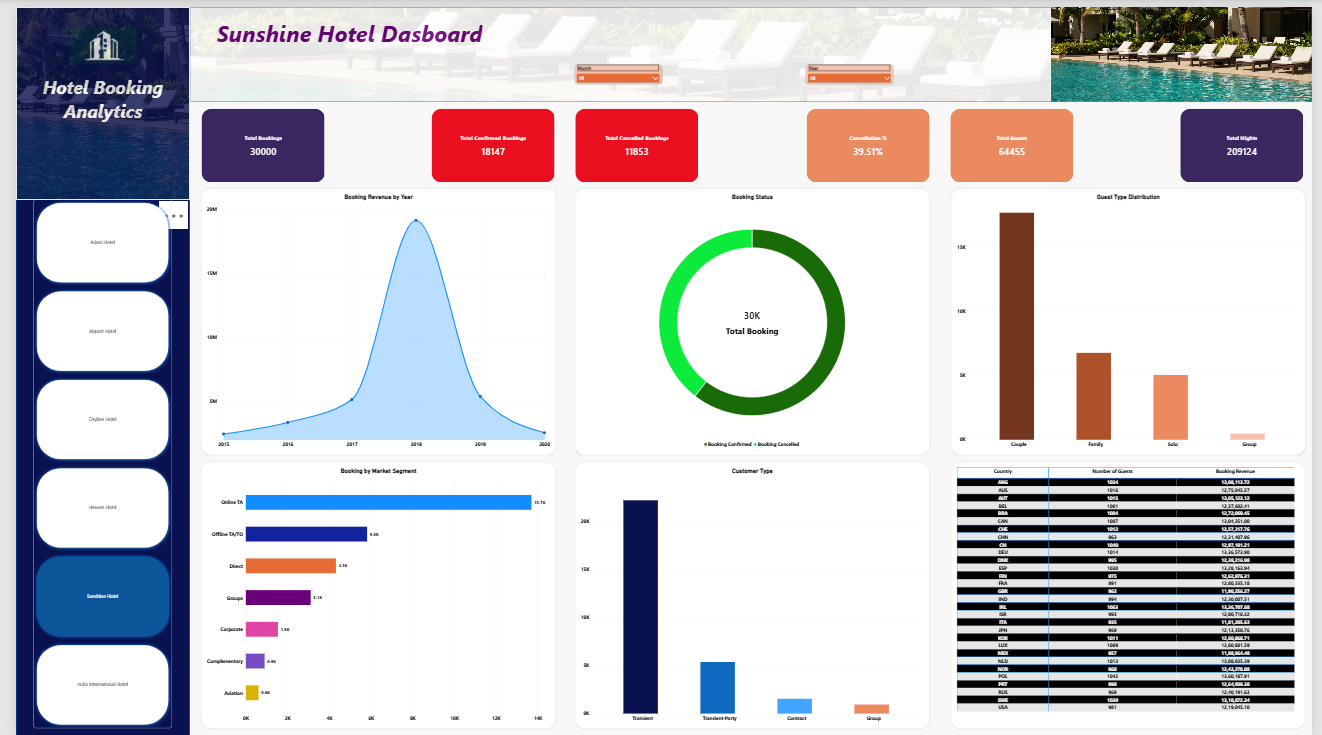

This screenshot's page, from the dashboard's own definition file:
{"tool":"powerbi","page":{"name":"Sunshine Hotel","canvas":[3840,2160],"ordinal":4},"visuals":[{"type":"shape","box":[0,0,515,2160],"z":0},{"type":"image","box":[158,62,200,107],"z":1000},{"type":"shape","box":[515,0,3325,281.2],"z":2000},{"type":"image","box":[3065.4,0,773.1,280.8],"z":3000},{"type":"image","box":[515.4,0,2550,280.8],"z":4000},{"type":"donutChart","title":"Booking  Status ","fields":{"Category":["Sunshine_Hotel.Booking  Status"],"Y":["CountNonNull(Sunshine_Hotel.Booking  Status)"]},"box":[1655,537.5,1051.7,790],"z":5000},{"type":"barChart","title":"Booking by Market Segment ","fields":{"Category":["Sunshine_Hotel.market_segment"],"Y":["CountNonNull(Sunshine_Hotel.market_segment)"]},"box":[546.3,1346.3,1051.2,790.2],"z":6000},{"type":"clusteredColumnChart","title":"Guest  Type  Distribution","fields":{"Category":["Sunshine_Hotel.Guest  Type"],"Y":["CountNonNull(Sunshine_Hotel.Guest  Type)"]},"box":[2769.6,537.7,1050,790],"z":7000},{"type":"stackedAreaChart","title":"Booking  Revenue by Year","fields":{"Category":["Sunshine_Hotel.Year"],"Y":["Sum(Sunshine_Hotel.Booking  Revenue)"]},"box":[546.7,538.3,1051.7,790],"z":8000},{"type":"cardVisual","title":"Total Bookings","fields":{"Data":["CountNonNull(Sunshine_Hotel.Booking  Status)"]},"box":[546.3,300,367.5,220],"z":9000},{"type":"cardVisual","title":"Total Bookings","fields":{"Data":["Sunshine_Hotel.Total  Night"]},"box":[3448.8,300,367.5,220],"z":10000},{"type":"cardVisual","title":"Total Bookings","fields":{"Data":["Sunshine_Hotel.cancellation      %"]},"box":[2340,300,367.5,220],"z":11000},{"type":"cardVisual","title":"Total Bookings","fields":{"Data":["Sunshine_Hotel.Total guest"]},"box":[2768.3,300,367.5,220],"z":12000},{"type":"cardVisual","title":"Total Bookings","fields":{"Data":["Sunshine_Hotel.Total  cancelled  Booking"]},"box":[1656.4,300,367.5,220],"z":13000},{"type":"image","box":[0,0,515,570],"z":14000},{"type":"pageNavigator","box":[53.3,570,410,1566.7],"z":15000},{"type":"slicer","fields":{"Values":["Sunshine_Hotel.Year"]},"box":[2340,168.9,257.8,57.8],"z":16000},{"type":"slicer","fields":{"Values":["Sunshine_Hotel.Month"]},"box":[1656.7,168.9,257.8,57.8],"z":17000},{"type":"clusteredColumnChart","title":"Customer Type","fields":{"Category":["Sunshine_Hotel.customer_type"],"Y":["CountNonNull(Sunshine_Hotel.customer_type)"]},"box":[1656.1,1346.3,1051.2,790.2],"z":18000},{"type":"tableEx","fields":{"Values":["Sunshine_Hotel.country","CountNonNull(Sunshine_Hotel.country)","Sum(Sunshine_Hotel.Booking  Revenue)"]},"box":[2769,1346.5,1049.3,790.1],"z":19000},{"type":"cardVisual","title":"Total Bookings","fields":{"Data":["Sunshine_Hotel.Total_Booking"]},"box":[1230.9,301.8,367.5,220],"z":19001}]}

Visuals, with their boxes on the page's 3840x2160 design canvas (x1, y1, x2, y2). These are canvas units, not pixel positions in the 1322x735 screenshot, which may show the page scaled, cropped or inside an application window:
shape: <region>0, 0, 515, 2160</region>
image: <region>158, 62, 358, 169</region>
shape: <region>515, 0, 3840, 281</region>
image: <region>3065, 0, 3838, 281</region>
image: <region>515, 0, 3065, 281</region>
"Booking  Status " donutChart: <region>1655, 538, 2707, 1328</region>
"Booking by Market Segment " barChart: <region>546, 1346, 1598, 2136</region>
"Guest  Type  Distribution" clusteredColumnChart: <region>2770, 538, 3820, 1328</region>
"Booking  Revenue by Year" stackedAreaChart: <region>547, 538, 1598, 1328</region>
"Total Bookings" cardVisual: <region>546, 300, 914, 520</region>
"Total Bookings" cardVisual: <region>3449, 300, 3816, 520</region>
"Total Bookings" cardVisual: <region>2340, 300, 2708, 520</region>
"Total Bookings" cardVisual: <region>2768, 300, 3136, 520</region>
"Total Bookings" cardVisual: <region>1656, 300, 2024, 520</region>
image: <region>0, 0, 515, 570</region>
pageNavigator: <region>53, 570, 463, 2137</region>
slicer - Sunshine_Hotel.Year: <region>2340, 169, 2598, 227</region>
slicer - Sunshine_Hotel.Month: <region>1657, 169, 1914, 227</region>
"Customer Type" clusteredColumnChart: <region>1656, 1346, 2707, 2136</region>
tableEx - Sunshine_Hotel.country x CountNonNull(Sunshine_Hotel.country): <region>2769, 1346, 3818, 2137</region>
"Total Bookings" cardVisual: <region>1231, 302, 1598, 522</region>
